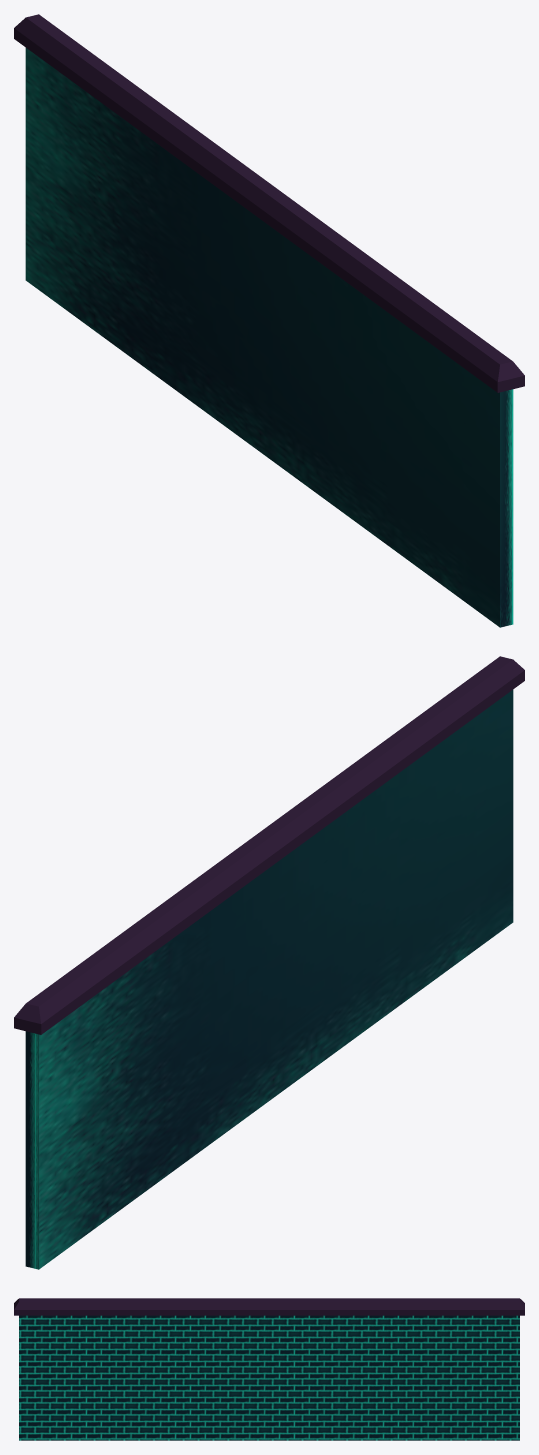
Rendered from graffitiWall.fbx.
The picture shows the model from 3 angles, top to bottom: view 1: azimuth 30°, elevation 25°; view 2: azimuth 150°, elevation 25°; view 3: azimuth 270°, elevation 25°; orthographic projection. The views are drawn at different scales.
Visible parts, largest first — view 1: Cube.038; view 2: Cube.038; view 3: Cube.038.
Part boxes in pixels (x1,y1,x2,y2): Cube.038: (14, 14, 524, 627); Cube.038: (14, 656, 524, 1269); Cube.038: (14, 1298, 524, 1440).
Bounding box in the file's own units: 129 × 1189 × 3964.
